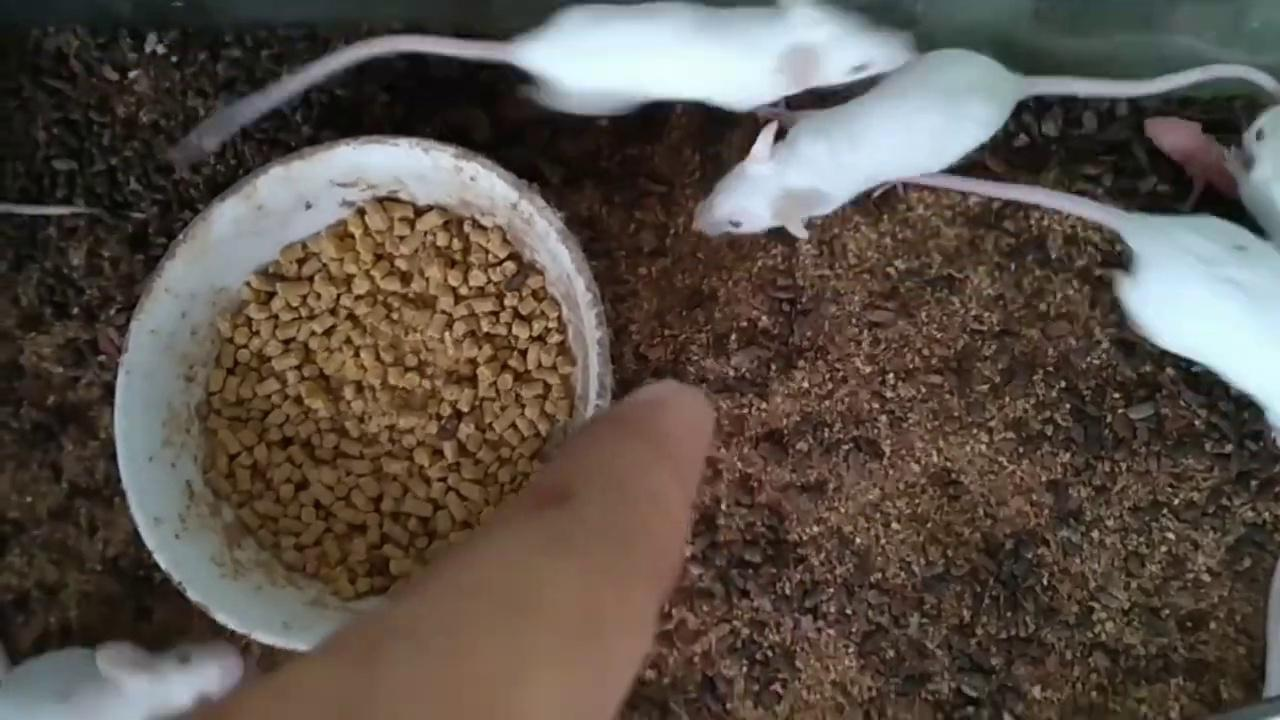rat: (192, 0, 917, 151), (691, 49, 1280, 234), (901, 173, 1280, 452), (0, 639, 246, 720), (1146, 111, 1237, 182), (1243, 101, 1280, 245)
